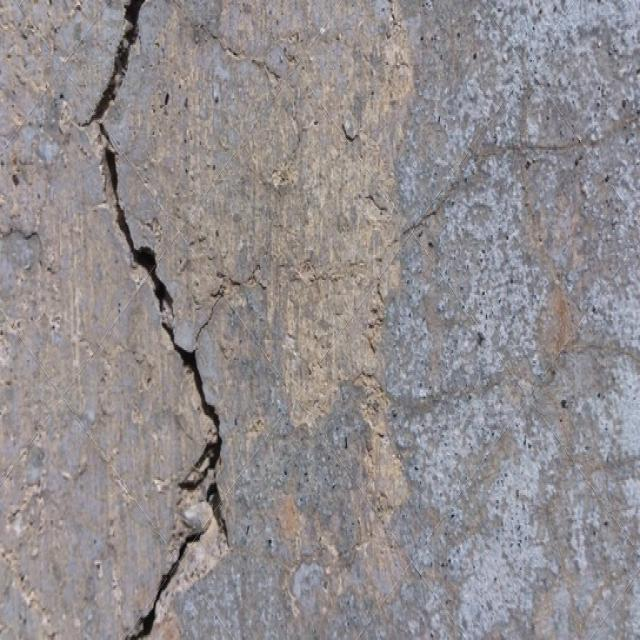Longitudinal: (73, 0, 246, 627)
